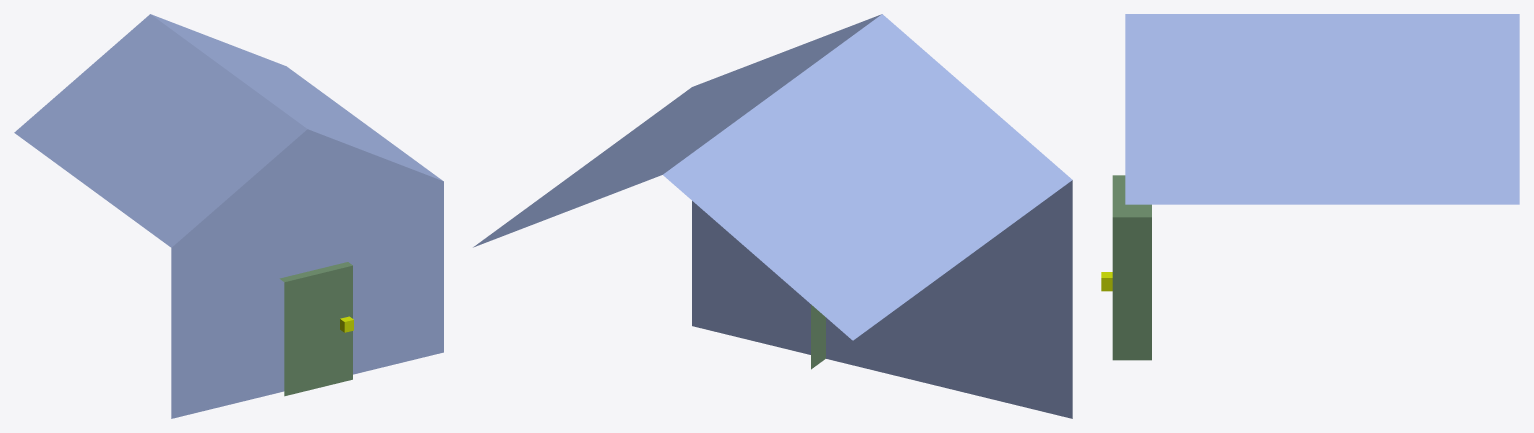
The model's file is Science_Factory_Normal_V2_UV.fbx.
3 views of the same model, side by side, from view 1: azimuth 30°, elevation 25°; view 2: azimuth 150°, elevation 25°; view 3: azimuth 270°, elevation 25° (orthographic). The views are drawn at different scales.
Visible parts, largest first — view 1: base.001, base; view 2: base.001, base; view 3: base.001, base.
Part boxes in pixels (x1,y1,x2,y2): base.001: (14, 14, 443, 418); base: (279, 262, 352, 396); base.001: (473, 14, 1072, 418); base: (811, 304, 825, 369); base.001: (1125, 14, 1519, 204); base: (1112, 175, 1151, 360).
Size of the model in its own units: 1000 by 900 by 1061.
